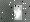person: (15, 6, 23, 21)
